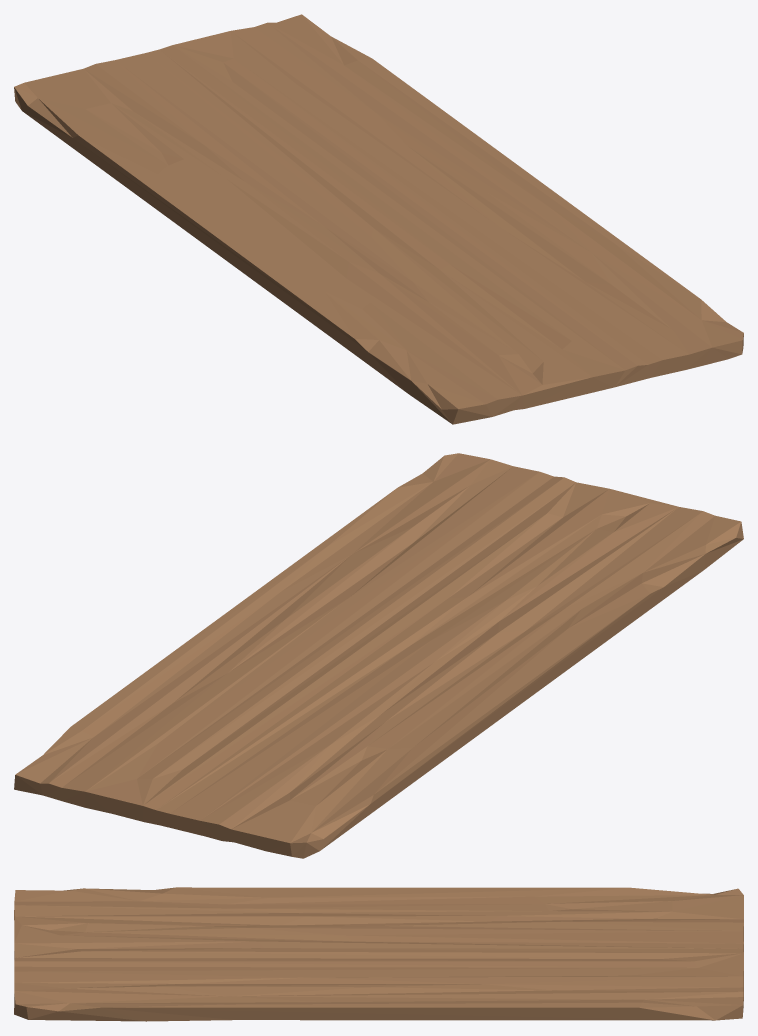
The model's file is SM_wooden_platform.fbx.
The picture shows the model from 3 angles, top to bottom: view 1: azimuth 30°, elevation 25°; view 2: azimuth 150°, elevation 25°; view 3: azimuth 270°, elevation 25°; orthographic projection. The views are drawn at different scales.
Visible parts, largest first — view 1: wooden_platform; view 2: wooden_platform; view 3: wooden_platform.
Part boxes in pixels (<box>): wooden_platform: <box>14,14,743,424</box>; wooden_platform: <box>14,453,743,858</box>; wooden_platform: <box>14,887,743,1021</box>.
Bounding box in the file's own units: 146 × 8.06 × 373.
